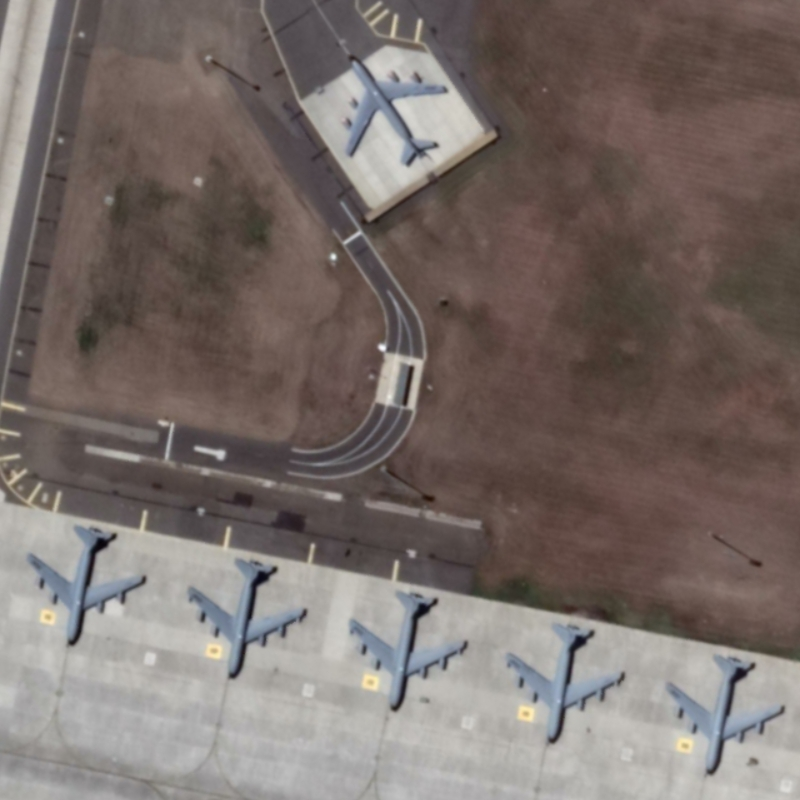A14: (19, 517, 158, 656), (328, 38, 465, 174), (343, 578, 475, 718), (184, 547, 309, 686), (502, 616, 631, 749), (659, 650, 786, 773)
